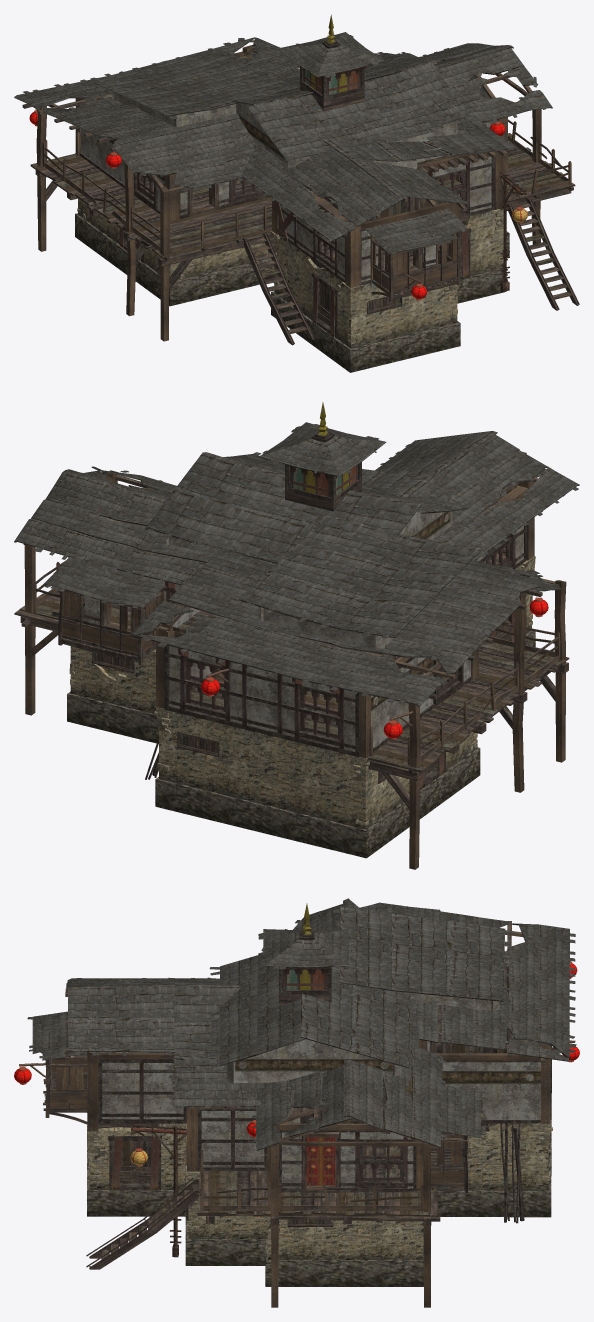
The model's file is SandHome.FBX.
3 renders of one model, top to bottom at view 1: azimuth 30°, elevation 25°; view 2: azimuth 150°, elevation 25°; view 3: azimuth 270°, elevation 25°, orthographic. The views are drawn at different scales.
Visible parts, largest first — view 1: 0dc4ac37, 087a2250, 0ccc891c, fef9d6b6, 83c1d8a4, 51d82b73, 3dd69ad8, 087a22500, 087a22501, 13c10676, 3dae8ffa, 97a3e190 (+1 smaller); view 2: 0dc4ac37, 087a2250, 0ccc891c, fef9d6b6, 83c1d8a4, 51d82b73, 3dd69ad8, 97a3e190, 13c10676, e2f0822b; view 3: 0dc4ac37, 087a2250, 0ccc891c, 51d82b73, 83c1d8a4, fef9d6b6, 3dd69ad8, e2f0822b, 087a22501, f4937b2c, 3dae8ffa, 13c10676 (+1 smaller).
Part boxes in pixels (x1,y1,x2,y2): 0dc4ac37: (14, 32, 552, 254); 087a2250: (22, 39, 575, 338); 0ccc891c: (75, 153, 503, 348); fef9d6b6: (36, 45, 571, 341); 83c1d8a4: (75, 213, 509, 372); 51d82b73: (81, 50, 492, 281); 3dd69ad8: (137, 58, 469, 274); 087a22500: (242, 233, 315, 345); 087a22501: (506, 197, 579, 310); 13c10676: (119, 66, 468, 337); 3dae8ffa: (495, 172, 531, 291); 97a3e190: (305, 14, 357, 94); 0dc4ac37: (14, 422, 579, 706); 087a2250: (14, 431, 569, 809); 0ccc891c: (69, 556, 535, 829); fef9d6b6: (23, 470, 566, 869); 83c1d8a4: (67, 630, 535, 858); 51d82b73: (84, 485, 523, 751); 3dd69ad8: (84, 464, 515, 749); 97a3e190: (293, 402, 355, 496); 13c10676: (165, 463, 515, 789); e2f0822b: (371, 511, 450, 710); 0dc4ac37: (27, 898, 576, 1150); 087a2250: (43, 921, 551, 1226); 0ccc891c: (87, 1102, 552, 1260); 51d82b73: (100, 955, 540, 1188); 83c1d8a4: (87, 1120, 551, 1286); fef9d6b6: (49, 1039, 550, 1307); 3dd69ad8: (139, 969, 551, 1192); e2f0822b: (235, 1059, 540, 1084); 087a22501: (86, 1177, 199, 1269); f4937b2c: (306, 1137, 335, 1186); 3dae8ffa: (130, 1124, 186, 1257); 13c10676: (111, 967, 555, 1217).
Size of the model in its own units: 7.21 by 4.57 by 7.81.
17 materials, 17 textured.
